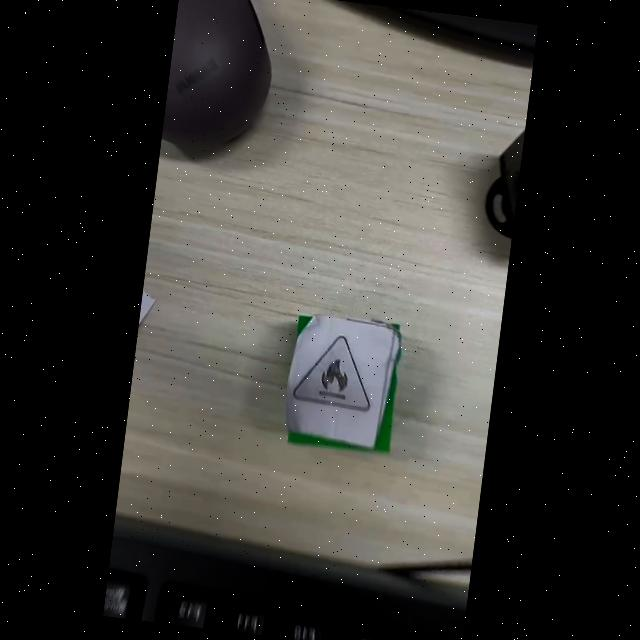Fire: (293, 334, 370, 411)
